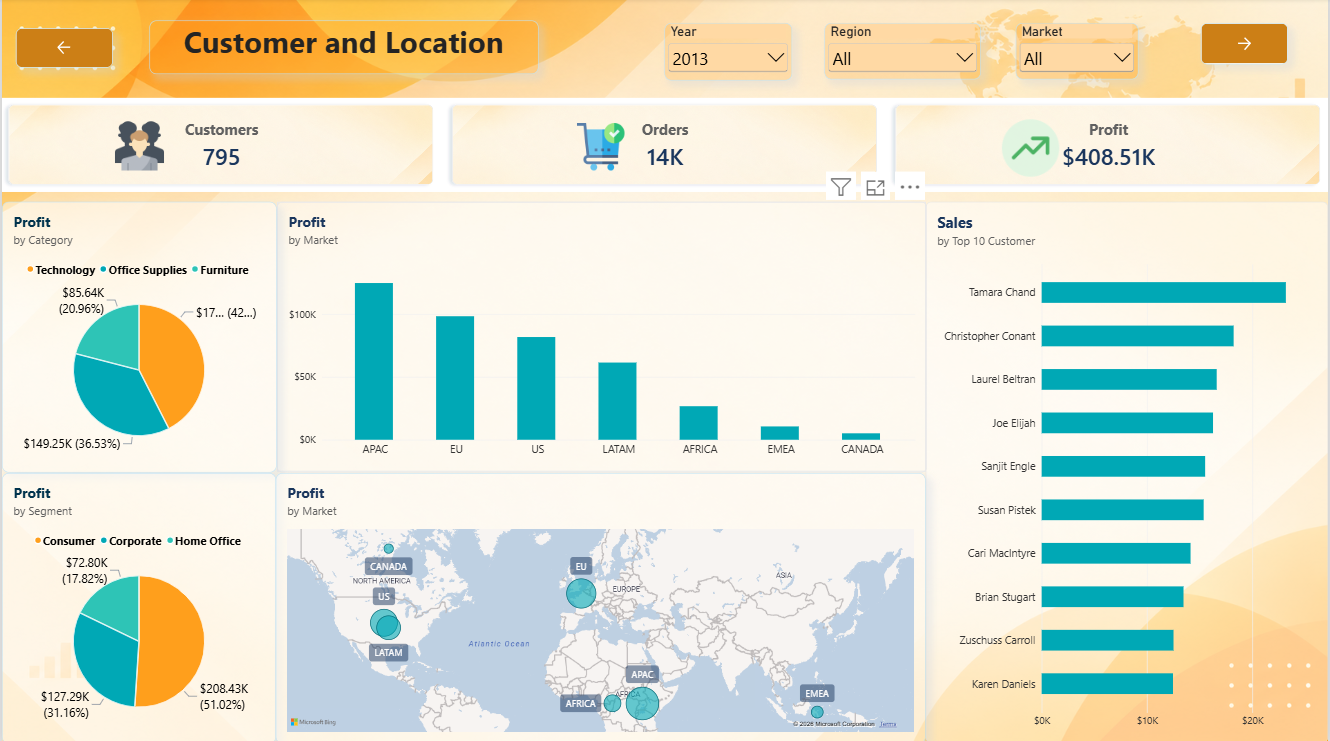

The page's visual inventory and layout, read from the dashboard file:
{"tool":"powerbi","page":{"name":"Customer and Location ","canvas":[1920,1080],"ordinal":3},"visuals":[{"type":"cardVisual","fields":{"Data":["SuperStoreOrders.Customer","SuperStoreOrders.Orders","SuperStoreOrders.Total Profit"]},"box":[0,144.8,1920.1,135.7],"z":0},{"type":"clusteredBarChart","fields":{"Category":["SuperStoreOrders.customer_name"],"Y":["SuperStoreOrders.Total Sales"]},"box":[1338.2,294.7,582.2,783.5],"z":1000},{"type":"clusteredColumnChart","fields":{"Category":["SuperStoreOrders.market"],"Y":["SuperStoreOrders.Total Profit"]},"box":[397.3,294.7,941,391.8],"z":2000},{"type":"pieChart","fields":{"Category":["SuperStoreOrders.category"],"Y":["SuperStoreOrders.Total Profit"]},"box":[0,294.7,397.3,391.8],"z":3000},{"type":"pieChart","fields":{"Category":["SuperStoreOrders.segment"],"Y":["SuperStoreOrders.Total Profit"]},"box":[0,687,397,392],"z":4000},{"type":"textbox","box":[213.5,32.6,562.8,77.8],"z":5000},{"type":"map","fields":{"Category":["SuperStoreOrders.market"],"Size":["SuperStoreOrders.Total Profit"]},"box":[397,687,941,392],"z":6000},{"type":"image","box":[1445.9,175.5,86.9,83.2],"z":7000},{"type":"image","box":[790.8,181,152,68.8],"z":8000},{"type":"image","box":[161.1,173.7,76,81.4],"z":9000},{"type":"slicer","fields":{"Values":["SuperStoreOrders.year"]},"box":[959.1,36.2,184.6,83.2],"z":10000},{"type":"slicer","fields":{"Values":["SuperStoreOrders.region"]},"box":[1190.8,36.2,226.2,81.4],"z":11000},{"type":"slicer","fields":{"Values":["SuperStoreOrders.market"]},"box":[1467.6,36.2,177.3,81.4],"z":12000},{"type":"actionButton","box":[1735.5,36.2,126.7,59.7],"z":13000},{"type":"actionButton","box":[19.9,43.4,141.2,57.9],"z":14000}]}

Visuals, with their boxes in screenshot pixels (x1, y1, x2, y2), scaled from the page's 1920x1080 canvas onto the 1330x741 screenshot:
cardVisual - SuperStoreOrders.Customer x SuperStoreOrders.Orders: 0 99 1329 192
clusteredBarChart - SuperStoreOrders.customer_name x SuperStoreOrders.Total Sales: 927 202 1329 740
clusteredColumnChart - SuperStoreOrders.market x SuperStoreOrders.Total Profit: 275 202 927 471
pieChart - SuperStoreOrders.category x SuperStoreOrders.Total Profit: 0 202 275 471
pieChart - SuperStoreOrders.segment x SuperStoreOrders.Total Profit: 0 471 275 740
textbox: 148 22 538 76
map - SuperStoreOrders.market x SuperStoreOrders.Total Profit: 275 471 927 740
image: 1002 120 1062 177
image: 548 124 653 171
image: 112 119 164 175
slicer - SuperStoreOrders.year: 664 25 792 82
slicer - SuperStoreOrders.region: 825 25 982 81
slicer - SuperStoreOrders.market: 1017 25 1139 81
actionButton: 1202 25 1290 66
actionButton: 14 30 112 70
